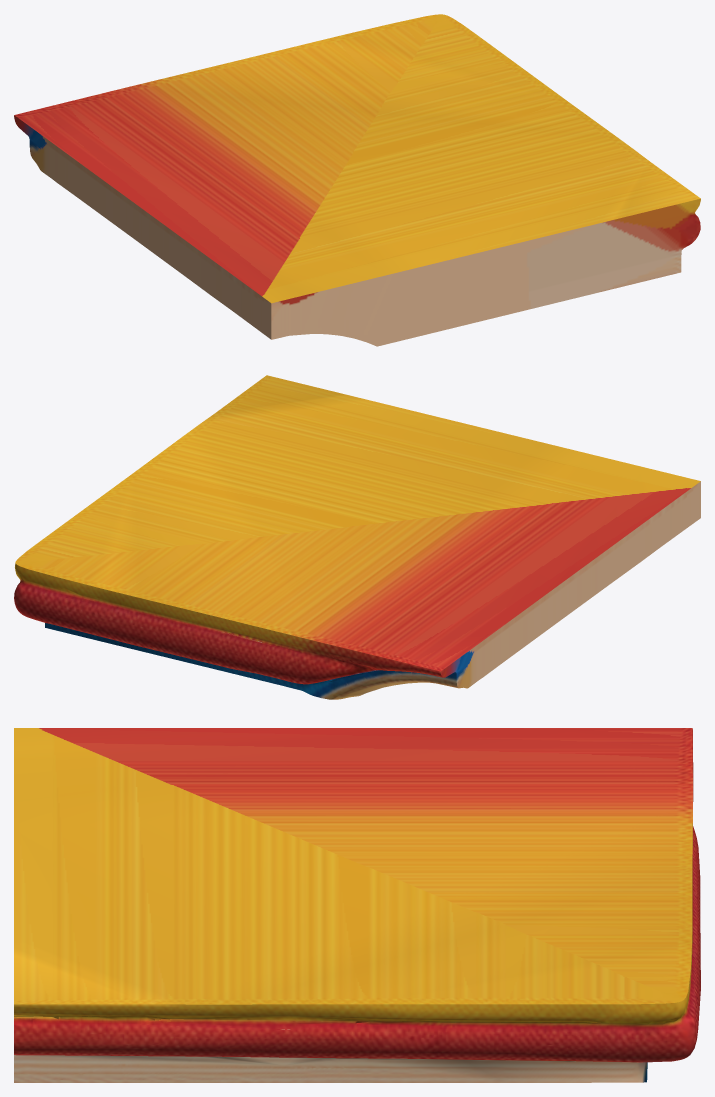
Rendered from 12-roof-back-right.fbx.
3 renders of one model, top to bottom at view 1: azimuth 30°, elevation 25°; view 2: azimuth 150°, elevation 25°; view 3: azimuth 270°, elevation 25°, orthographic. The views are drawn at different scales.
Parts seen in each view (by area): view 1: roof-back-right; view 2: roof-back-right; view 3: roof-back-right.
Part boxes in pixels (left/top/right/bottom): roof-back-right: left=14, top=14, right=700, bottom=346; roof-back-right: left=14, top=375, right=700, bottom=699; roof-back-right: left=14, top=728, right=700, bottom=1082.
Bounding box in the file's own units: 6019 × 924 × 6317.
Materials: 1 (1 with a texture image).
